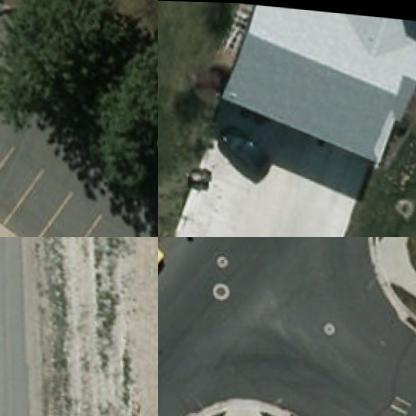car: (213, 119, 272, 176)
